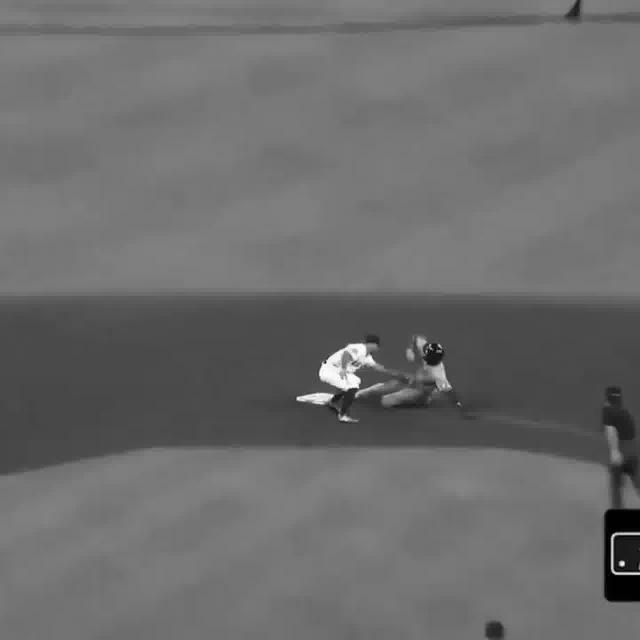base: (295, 392, 341, 406)
baseball_glove: (396, 371, 416, 383)
shoe: (338, 414, 361, 427), (326, 399, 340, 413)
